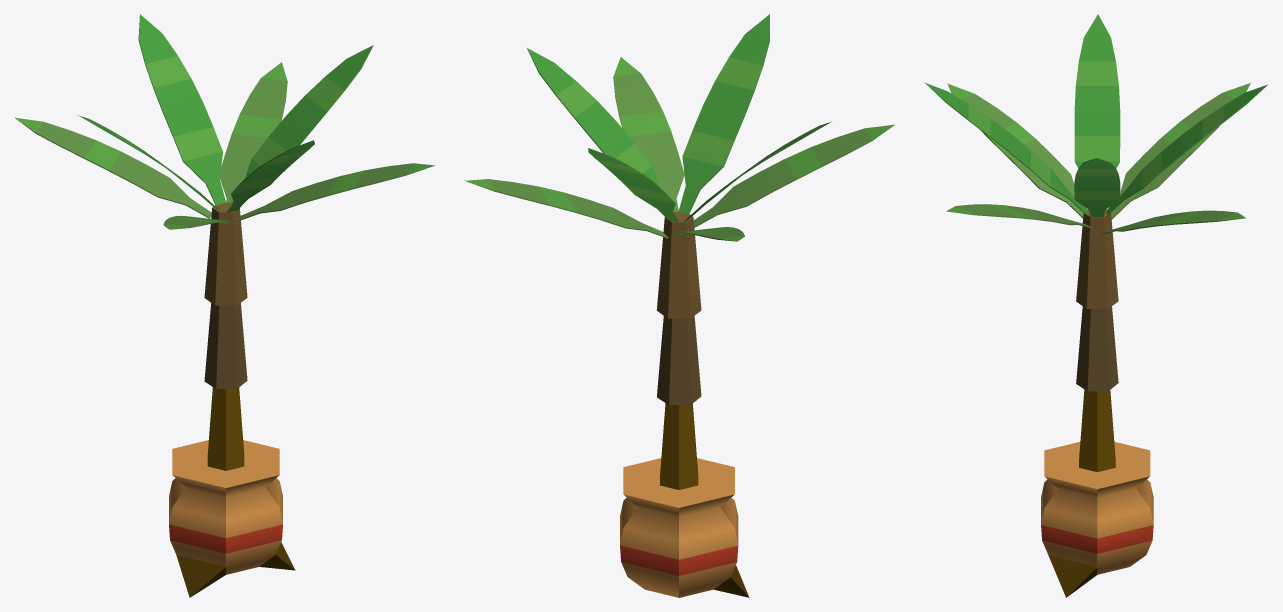
Rendered from banenenboom-character.fbx.
3 renders of one model, left to right at view 1: azimuth 30°, elevation 25°; view 2: azimuth 150°, elevation 25°; view 3: azimuth 270°, elevation 25°, orthographic. The views are drawn at different scales.
Parts seen in each view (by area): view 1: polySurface20; view 2: polySurface20; view 3: polySurface20.
Boxes of the visible parts, left/top/right/bottom form: polySurface20: left=15, top=14, right=434, bottom=597; polySurface20: left=464, top=14, right=894, bottom=597; polySurface20: left=925, top=14, right=1267, bottom=597.
Size of the model in its own units: 21.23 by 34.12 by 21.67.
